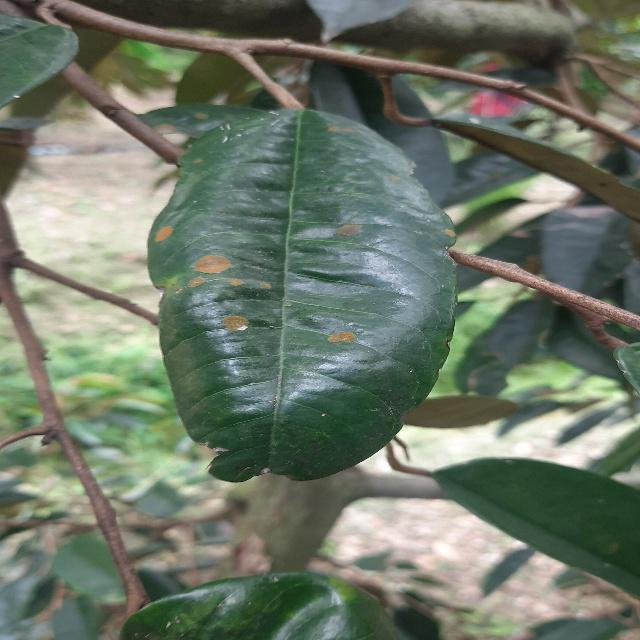Algal Leaf Spot: (141, 101, 459, 483)
